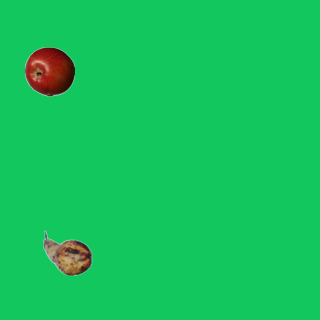Apple Braeburn: (24, 46, 74, 96)
Pear Abate: (42, 228, 92, 278)
